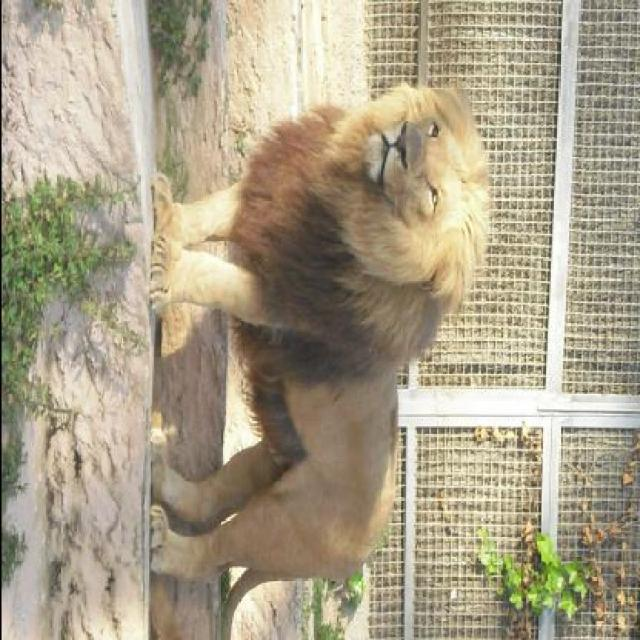Lion: (137, 68, 505, 630)
